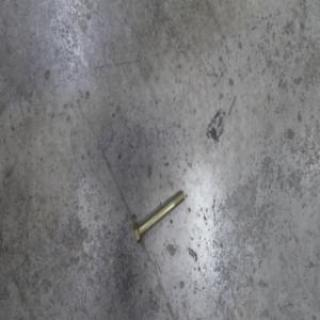Bolttrack_idkeyframe: (132, 186, 185, 247)
